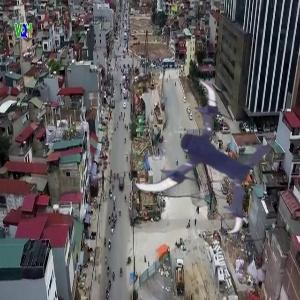drone: (132, 82, 277, 227)
